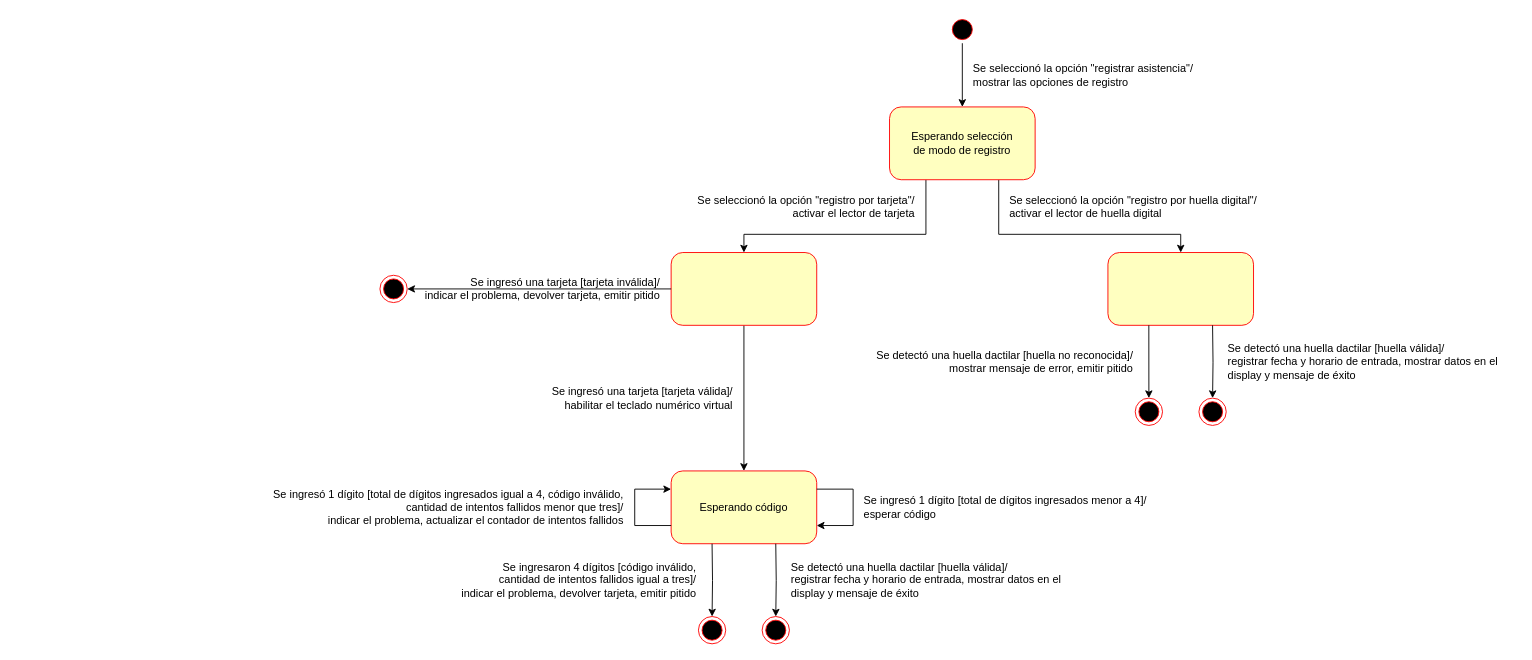
Some shapes in this 1532 by 660 pixel diagram are drawn without their labels. Each missing label, with the centre of its shape:
"Esperando huella digital" belongs at pixel 1180 288.
"Esperando tarjeta" belongs at pixel 743 288.
